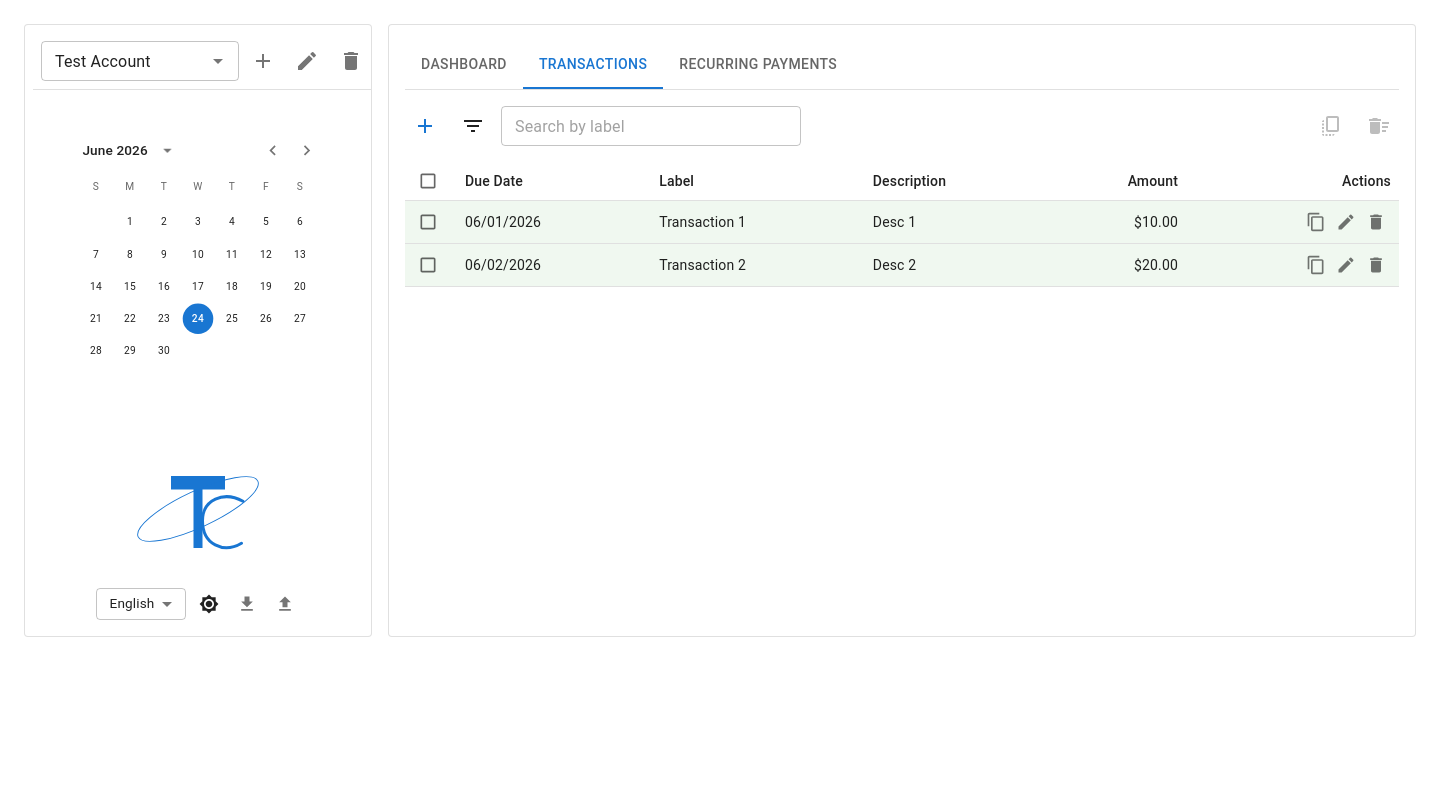
it: TransactionEditionArea › opens TransactionEditor in edit mode when edit icon is clicked
Expected: the text "Transaction 1" is shown, [643,201,857,244]
Click the button named "edit transaction" in the row of "06/01/2026" at x=1346, y=222, box [1331,207,1361,237]
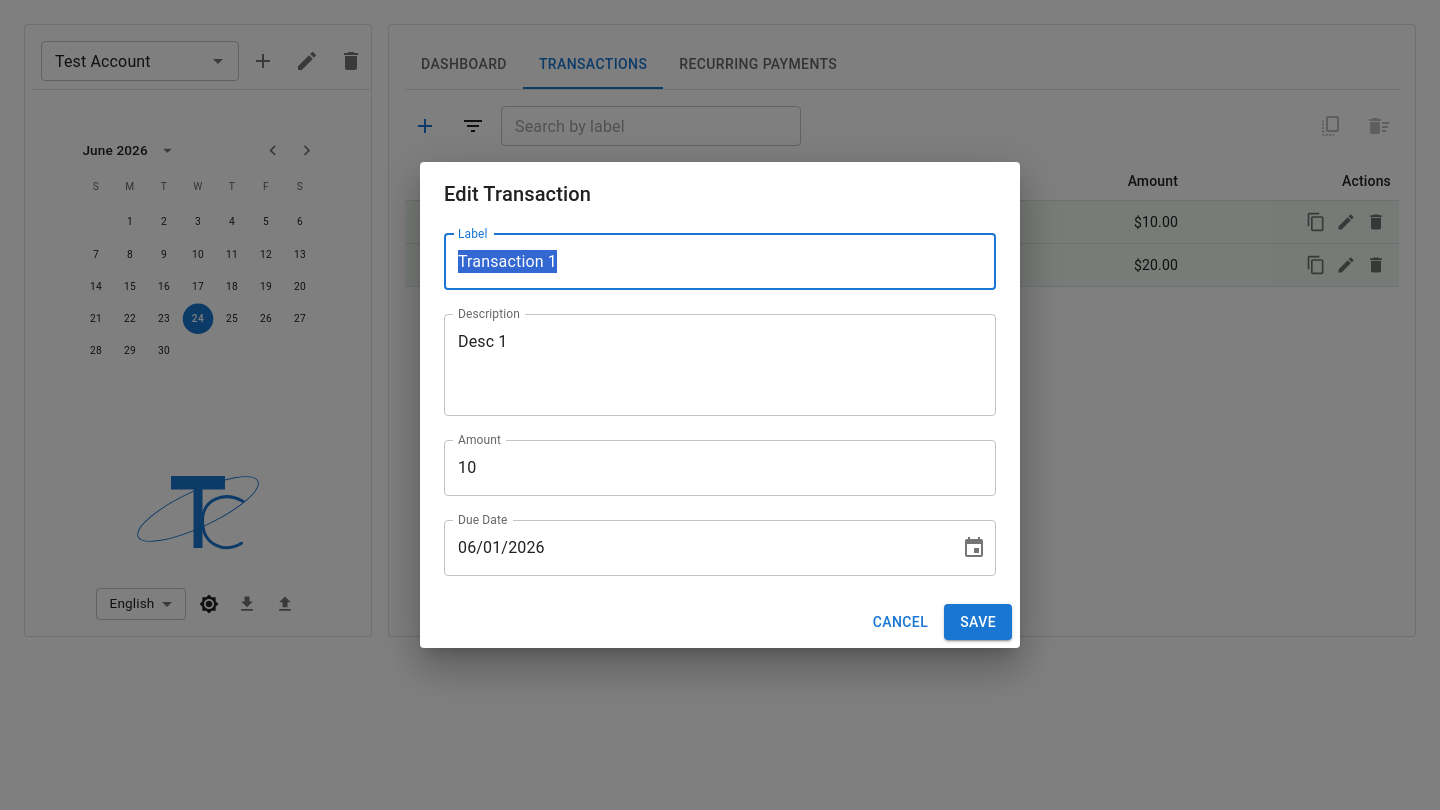
Result: the heading "Edit Transaction" is shown at [444,182,591,206]
